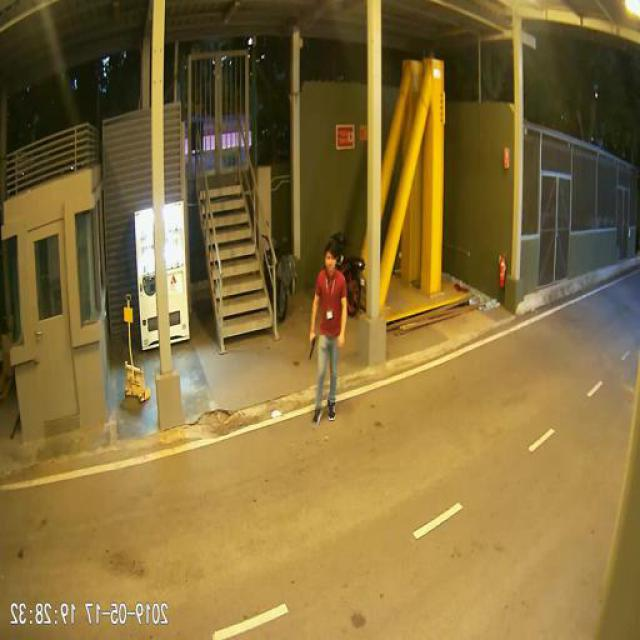Gun: (310, 332, 318, 358)
